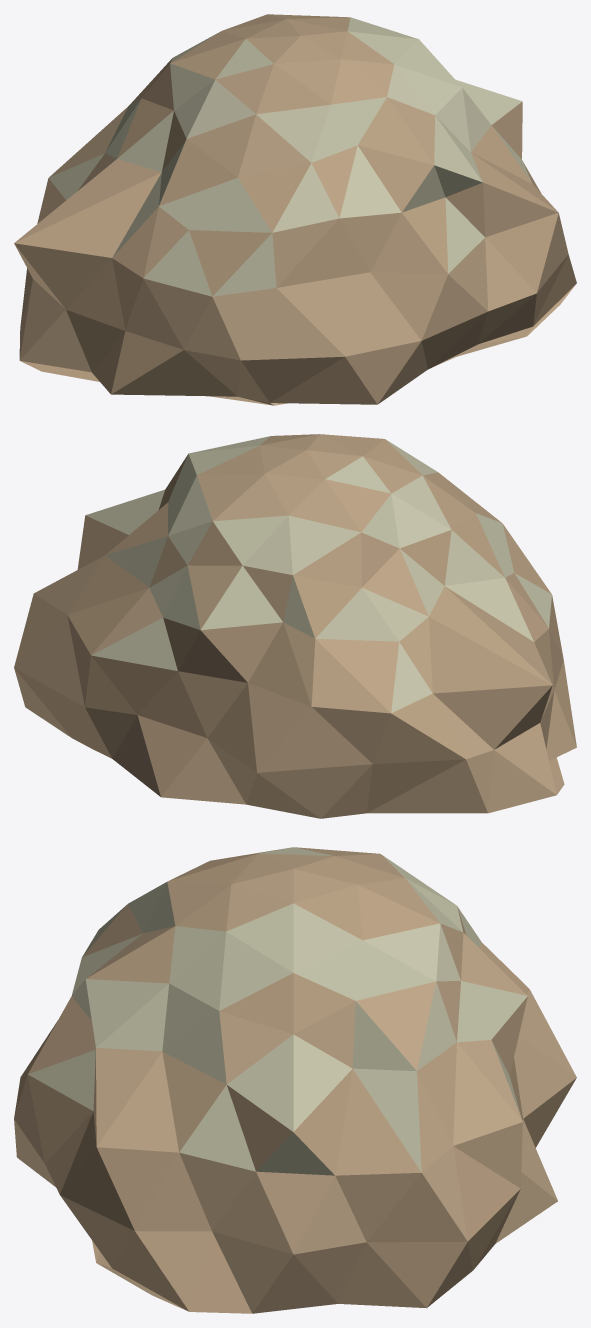
The model's file is rock1.glb.
The picture shows the model from 3 angles, top to bottom: view 1: azimuth 30°, elevation 25°; view 2: azimuth 150°, elevation 25°; view 3: azimuth 270°, elevation 25°; orthographic projection. The views are drawn at different scales.
Parts seen in each view (by area): view 1: Sandstone; view 2: Sandstone; view 3: Sandstone.
Boxes of the visible parts, box(x1,y1,x2,y2) form: Sandstone: box(14, 14, 576, 405); Sandstone: box(14, 434, 576, 818); Sandstone: box(14, 847, 576, 1313).
Bounding box in the file's own units: 2.09 × 1.07 × 1.74.
